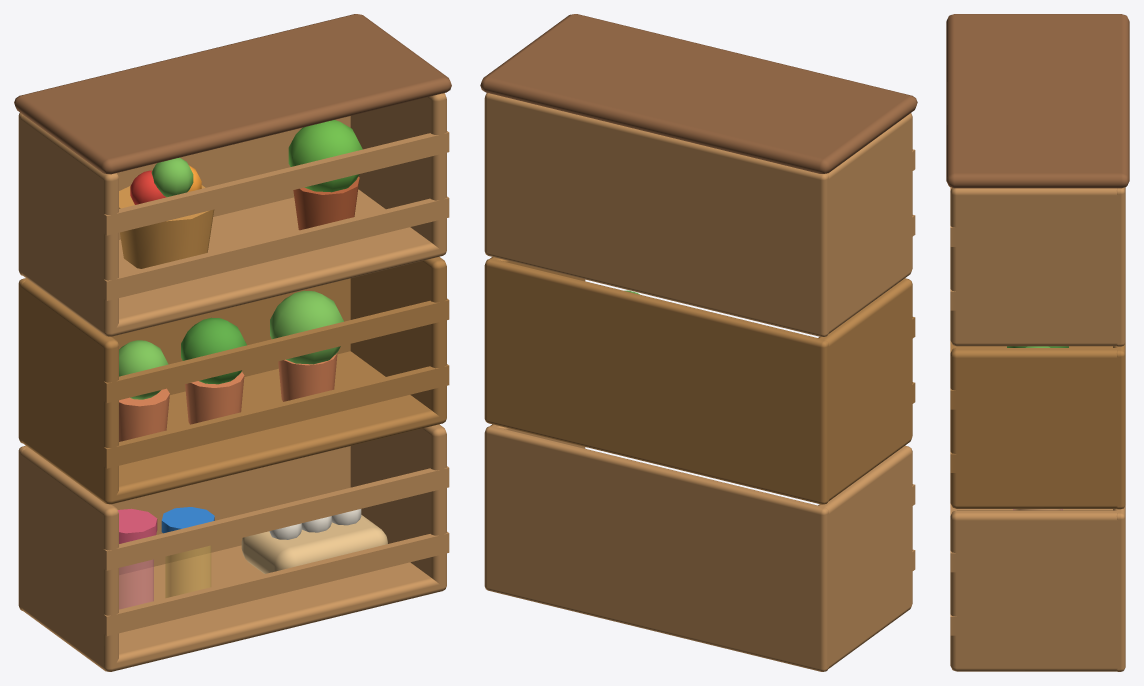
File: bakerack-crates.glb
3 renders of one model, left to right at view 1: azimuth 30°, elevation 25°; view 2: azimuth 150°, elevation 25°; view 3: azimuth 270°, elevation 25°, orthographic. The views are drawn at different scales.
Bounding box in the file's own units: 0.94 × 1.32 × 0.44.
